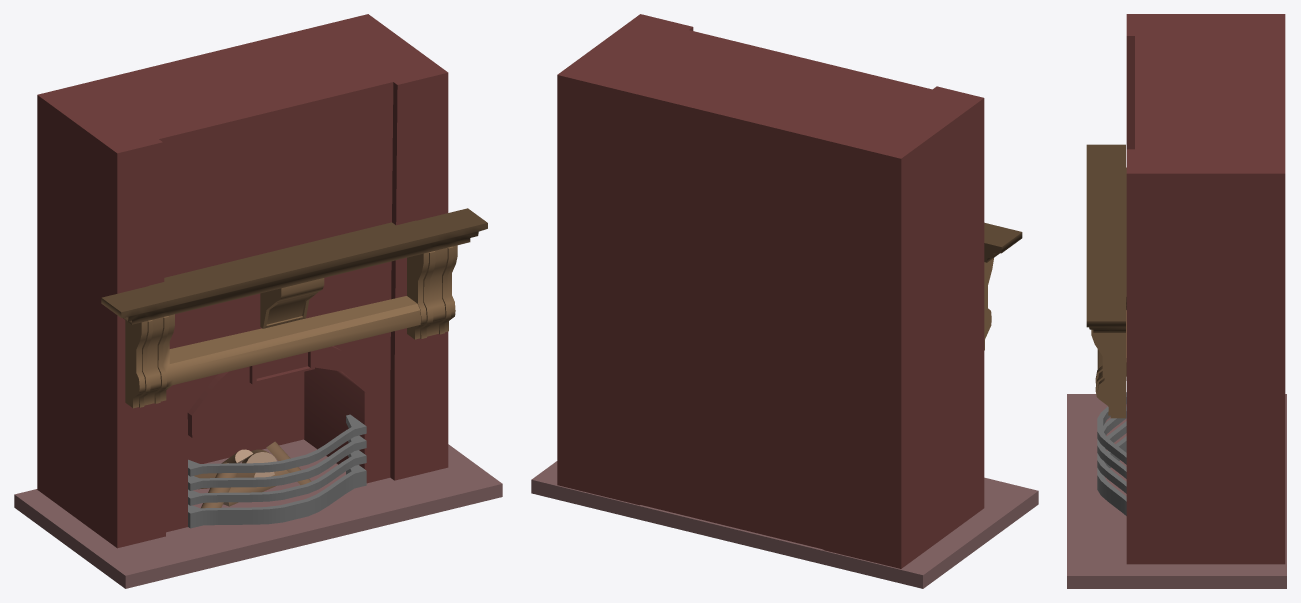
Rendered from Fireplace_UVFixed.fbx.
3 renders of one model, left to right at view 1: azimuth 30°, elevation 25°; view 2: azimuth 150°, elevation 25°; view 3: azimuth 270°, elevation 25°, orthographic. The views are drawn at different scales.
Parts seen in each view (by area): view 1: Fireplace_UV; view 2: Fireplace_UV; view 3: Fireplace_UV.
Boxes of the visible parts, <box> form: Fireplace_UV: <box>14,14,502,588</box>; Fireplace_UV: <box>531,14,1038,588</box>; Fireplace_UV: <box>1067,14,1286,588</box>.
Size of the model in its own units: 53.67 by 55.5 by 27.39.
